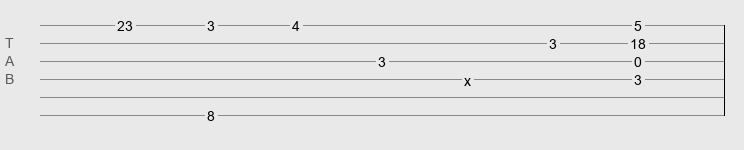0: (634, 54, 642, 64)
18: (630, 36, 646, 46)
23: (117, 18, 133, 28)
3: (207, 18, 215, 28), (378, 54, 386, 64), (549, 36, 557, 46), (634, 72, 642, 82)
4: (292, 18, 300, 28)
5: (634, 18, 642, 28)
8: (207, 108, 215, 118)
x: (464, 73, 471, 81)
